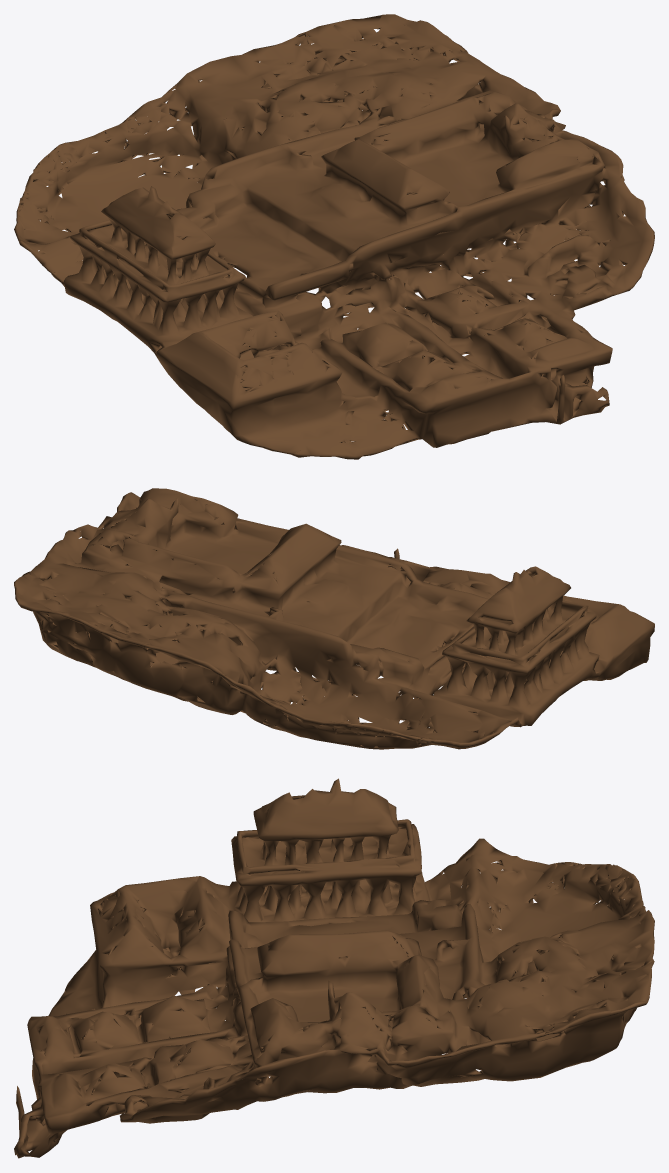
The model's file is Royal Complex_colour_final.glb.
The picture shows the model from 3 angles, top to bottom: view 1: azimuth 30°, elevation 25°; view 2: azimuth 150°, elevation 25°; view 3: azimuth 270°, elevation 25°; orthographic projection. The views are drawn at different scales.
Parts seen in each view (by area): view 1: tmp5k6ddbzf.ply; view 2: tmp5k6ddbzf.ply; view 3: tmp5k6ddbzf.ply.
Part boxes in pixels (x1=…): tmp5k6ddbzf.ply: x1=14, y1=14, x2=654, y2=459; tmp5k6ddbzf.ply: x1=14, y1=488, x2=654, y2=749; tmp5k6ddbzf.ply: x1=14, y1=778, x2=654, y2=1158.
Size of the model in its own units: 1.95 by 0.742 by 1.96.
